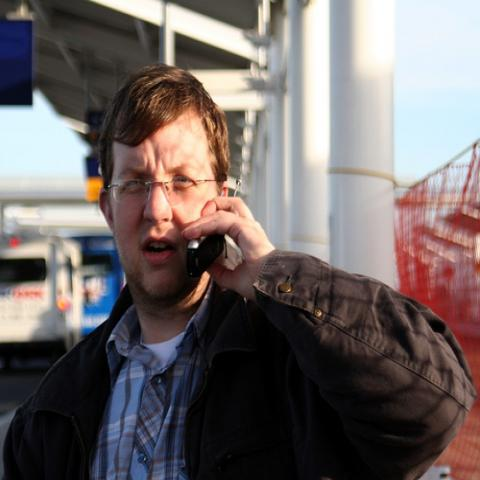bus: (74, 239, 127, 335)
